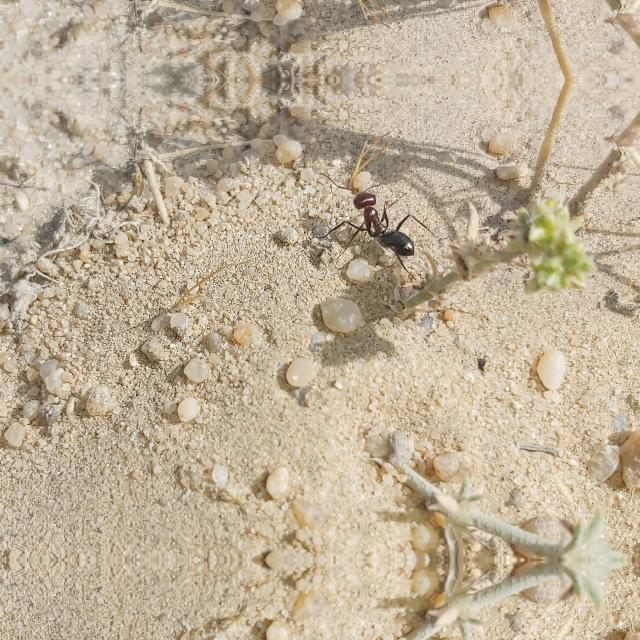Cataglyphis: (332, 178, 428, 266)
